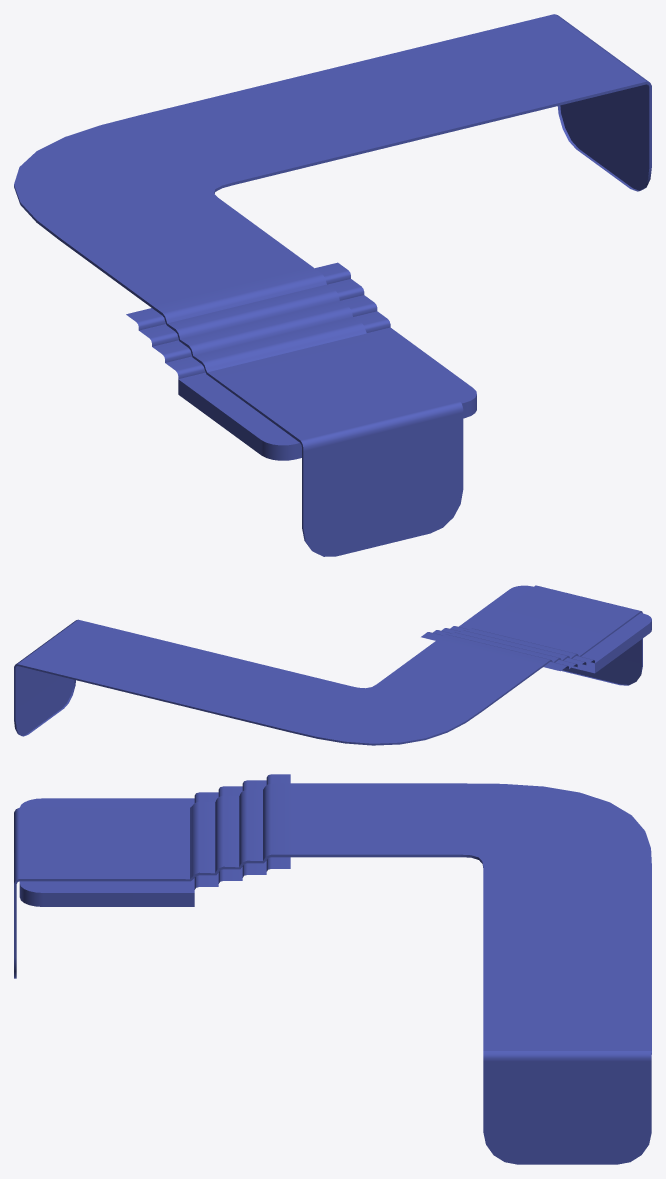
Rendered from mesh_PisoAlfombra.fbx.
The picture shows the model from 3 angles, top to bottom: view 1: azimuth 30°, elevation 25°; view 2: azimuth 150°, elevation 25°; view 3: azimuth 270°, elevation 25°; orthographic projection. The views are drawn at different scales.
Parts seen in each view (by area): view 1: EscaleraPiso; view 2: EscaleraPiso; view 3: EscaleraPiso.
Part boxes in pixels (<box>): EscaleraPiso: <box>14,14,651,556</box>; EscaleraPiso: <box>14,585,651,745</box>; EscaleraPiso: <box>14,774,651,1164</box>.
Size of the model in its own units: 7321 by 1643 by 7011.
